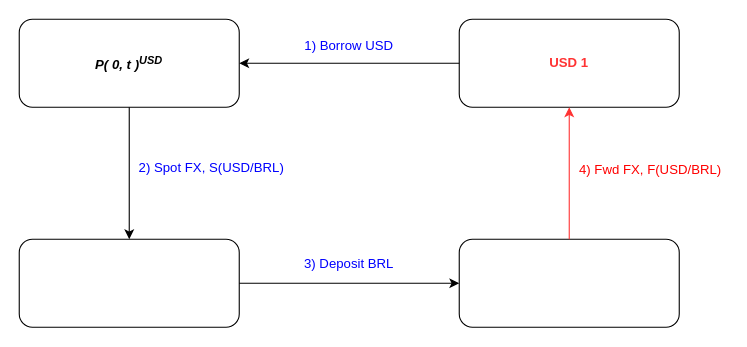
Some shapes in this 747 by 347 pixel diagram are drawn without their labels. Here are the shapes that lost their labels. From the top down, the box of each, then its label:
(18, 238, 239, 327): S . P( 0, t ) USD
(458, 238, 679, 327): S . P( 0, t ) USD / P( 0, t ) BRL
